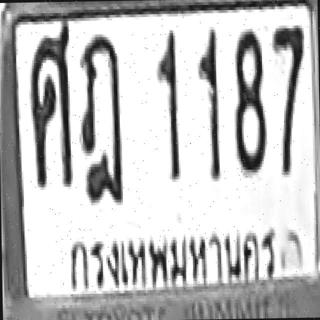A14: (77, 32, 123, 201)
A38: (29, 24, 72, 187)
N01: (154, 28, 180, 180), (196, 28, 221, 180)
N07: (272, 23, 306, 176), (272, 24, 306, 157), (273, 23, 304, 124)
N08: (232, 28, 266, 175)
P04: (62, 222, 279, 293)
